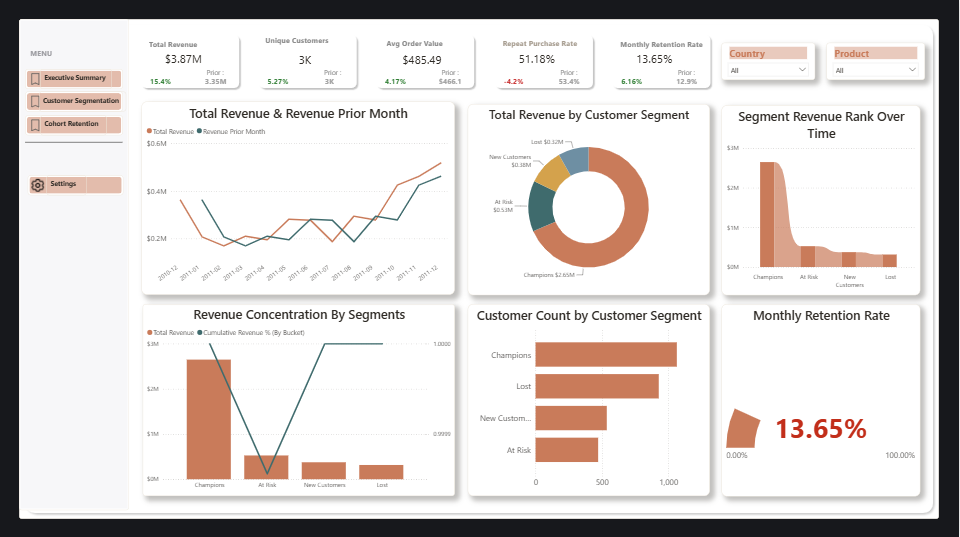

The dashboard page shown, as its layout file describes it:
{"tool":"powerbi","page":{"name":"Executive Summary","canvas":[1920,1080],"ordinal":0},"visuals":[{"type":"shape","title":"bg_card","box":[40,40,1840,1000],"z":0},{"type":"shape","box":[278,66,210,120],"z":0,"group":"g1"},{"type":"shape","box":[513.2,66,210,120],"z":0,"group":"g2"},{"type":"shape","box":[748.5,66,210,120],"z":0,"group":"g3"},{"type":"shape","box":[983.8,66,210,120],"z":0,"group":"g4"},{"type":"shape","box":[1219,66,210,120],"z":0,"group":"g5"},{"type":"shape","box":[40,40,220,982.5],"z":1000},{"type":"textbox","box":[528.6,67.4,160,48.6],"z":1000,"group":"g2"},{"type":"textbox","box":[769.9,73.3,157.3,42.7],"z":1000,"group":"g3"},{"type":"textbox","box":[1002.2,73.3,165.5,42.7],"z":1000,"group":"g4"},{"type":"textbox","box":[295.1,76,115.7,40],"z":1000,"group":"g1"},{"type":"textbox","box":[1236,76,193,40],"z":1000,"group":"g5"},{"type":"cardVisual","fields":{"Data":["ecommerce_cleaned.Total Revenue"]},"box":[315.4,88.5,109,54],"z":2000,"group":"g1"},{"type":"cardVisual","fields":{"Data":["ecommerce_cleaned.Repeat Purchase Rate"]},"box":[1021.2,88.5,109,54],"z":2000,"group":"g4"},{"type":"cardVisual","fields":{"Data":["ecommerce_cleaned.Monthly Retention Rate"]},"box":[1256.4,88.5,109,54],"z":2000,"group":"g5"},{"type":"cardVisual","fields":{"Data":["ecommerce_cleaned.Unique Customers"]},"box":[582.8,90.3,64.3,55.7],"z":2000,"group":"g2"},{"type":"cardVisual","fields":{"Data":["ecommerce_cleaned.Avg Order Value"]},"box":[791.7,94.2,120.9,48.2],"z":2000,"group":"g3"},{"type":"actionButton","title":"overview button","box":[52.5,140,195,40],"z":2000},{"type":"textbox","box":[57.8,92.2,58.9,33.3],"z":3000},{"type":"cardVisual","fields":{"Data":["ecommerce_cleaned.Total Revenue MoM %"]},"box":[286.3,143,78.4,34.2],"z":3000,"group":"g1"},{"type":"cardVisual","fields":{"Data":["ecommerce_cleaned.Unique Customers MoM %"]},"box":[521.5,143,78.4,34.2],"z":3000,"group":"g2"},{"type":"cardVisual","fields":{"Data":["ecommerce_cleaned.Avg Order Value MoM %"]},"box":[756.8,143,78.4,34.2],"z":3000,"group":"g3"},{"type":"cardVisual","fields":{"Data":["ecommerce_cleaned.Repeat Purchase Rate MoM %"]},"box":[992,143,78,34],"z":3000,"group":"g4"},{"type":"cardVisual","fields":{"Data":["ecommerce_cleaned.Monthly Retention Rate MoM %"]},"box":[1227.3,143,78.4,34.2],"z":3000,"group":"g5"},{"type":"cardVisual","fields":{"Data":["ecommerce_cleaned.Total Revenue PM"]},"box":[396.3,143,78.4,34.2],"z":4000,"group":"g1"},{"type":"cardVisual","fields":{"Data":["ecommerce_cleaned.Repeat Purchase Rate PM"]},"box":[1102.1,143,78.4,34.2],"z":4000,"group":"g4"},{"type":"cardVisual","fields":{"Data":["ecommerce_cleaned.Monthly Retention Rate PM"]},"box":[1337.3,143,78.4,34.2],"z":4000,"group":"g5"},{"type":"cardVisual","fields":{"Data":["ecommerce_cleaned.Unique Customers PM"]},"box":[634.8,146,59.1,31.8],"z":4000,"group":"g2"},{"type":"cardVisual","fields":{"Data":["ecommerce_cleaned.Avg Order Value PM"]},"box":[864.4,146,84.5,30.9],"z":4000,"group":"g3"},{"type":"actionButton","box":[52.5,185.8,195,40],"z":4000},{"type":"textbox","box":[410.9,132.5,55.6,27.8],"z":5000,"group":"g1"},{"type":"textbox","box":[646.1,132.5,55.6,27.8],"z":5000,"group":"g2"},{"type":"textbox","box":[881.4,132.5,55.6,27.8],"z":5000,"group":"g3"},{"type":"textbox","box":[1116.7,132.5,55.6,27.8],"z":5000,"group":"g4"},{"type":"textbox","box":[1351.9,132.5,55.6,27.8],"z":5000,"group":"g5"},{"type":"textbox","box":[80,185.8,174,40],"z":5000},{"type":"actionButton","box":[52.5,231.7,195,40],"z":6000},{"type":"actionButton","box":[57.3,353.6,190.9,40],"z":7000},{"type":"textbox","box":[94.4,353.3,80,40],"z":8000},{"type":"textbox","box":[82.5,231.7,132.5,40],"z":9000},{"type":"textbox","box":[82.5,140,143.3,40],"z":10000},{"type":"shape","box":[53.6,271.8,194.5,28.2],"z":11000},{"type":"group","id":"g1","title":"KPI 1","box":[278,66,210,120],"z":12000},{"type":"group","id":"g2","title":"KPI 2","box":[513.2,66,210,120],"z":13000},{"type":"group","id":"g3","title":"KPI 3","box":[748.5,66,210,120],"z":14000},{"type":"group","id":"g4","title":"KPI 4","box":[983.8,66,210,120],"z":15000},{"type":"group","id":"g5","title":"KPI 4","box":[1219,66,210,120],"z":16000},{"type":"lineClusteredColumnComboChart","title":"Revenue Concentration By Segments","fields":{"Category":["ecommerce_cleaned.Customer Segment (Column)"],"Y":["ecommerce_cleaned.Total Revenue"],"Y2":["ecommerce_cleaned.Cumulative Revenue % (By Bucket)"]},"box":[288,610,624,384],"z":17000},{"type":"donutChart","title":"Total Revenue by Customer Segment ","fields":{"Y":["ecommerce_cleaned.Total Revenue"],"Category":["ecommerce_cleaned.Customer Segment (Column)"]},"box":[938,210,484,382],"z":18000},{"type":"lineChart","title":"Total Revenue & Revenue Prior Month","fields":{"Y":["ecommerce_cleaned.Total Revenue","ecommerce_cleaned.Revenue Prior Month"],"Category":["Calendar.Year-Month"]},"box":[286,206,626,386],"z":19000},{"type":"barChart","title":"Customer Count by Customer Segment","fields":{"Y":["Count(ecommerce_cleaned.CustomerID)"],"Category":["ecommerce_cleaned.Customer Segment (Column)"]},"box":[938,610,484,384],"z":20000},{"type":"slicer","fields":{"Values":["ecommerce_cleaned.Country"]},"box":[1444.3,88.6,187.1,74.3],"z":21000},{"type":"slicer","fields":{"Values":["ecommerce_cleaned.Description"]},"box":[1655.7,88.6,197.1,74.3],"z":22000},{"type":"gauge","fields":{"Y":["ecommerce_cleaned.Monthly Retention Rate"]},"box":[1444,610,397.5,385],"z":23000},{"type":"ribbonChart","title":"Segment Revenue Rank Over Time","fields":{"Category":["ecommerce_cleaned.Customer Segment (Column)"],"Y":["ecommerce_cleaned.Total Revenue","CountNonNull(Calendar.Month Name)"]},"box":[1444,212,397.5,380],"z":24000}]}

Visuals, with their boxes on the page's 1920x1080 design canvas (x1, y1, x2, y2). These are canvas units, not pixel positions in the 960x537 screenshot, which may show the page scaled, cropped or inside an application window:
"bg_card" shape: select_region(40, 40, 1880, 1040)
shape: select_region(278, 66, 488, 186)
shape: select_region(513, 66, 723, 186)
shape: select_region(748, 66, 958, 186)
shape: select_region(984, 66, 1194, 186)
shape: select_region(1219, 66, 1429, 186)
shape: select_region(40, 40, 260, 1022)
textbox: select_region(529, 67, 689, 116)
textbox: select_region(770, 73, 927, 116)
textbox: select_region(1002, 73, 1168, 116)
textbox: select_region(295, 76, 411, 116)
textbox: select_region(1236, 76, 1429, 116)
cardVisual - ecommerce_cleaned.Total Revenue: select_region(315, 88, 424, 142)
cardVisual - ecommerce_cleaned.Repeat Purchase Rate: select_region(1021, 88, 1130, 142)
cardVisual - ecommerce_cleaned.Monthly Retention Rate: select_region(1256, 88, 1365, 142)
cardVisual - ecommerce_cleaned.Unique Customers: select_region(583, 90, 647, 146)
cardVisual - ecommerce_cleaned.Avg Order Value: select_region(792, 94, 913, 142)
"overview button" actionButton: select_region(52, 140, 248, 180)
textbox: select_region(58, 92, 117, 126)
cardVisual - ecommerce_cleaned.Total Revenue MoM %: select_region(286, 143, 365, 177)
cardVisual - ecommerce_cleaned.Unique Customers MoM %: select_region(522, 143, 600, 177)
cardVisual - ecommerce_cleaned.Avg Order Value MoM %: select_region(757, 143, 835, 177)
cardVisual - ecommerce_cleaned.Repeat Purchase Rate MoM %: select_region(992, 143, 1070, 177)
cardVisual - ecommerce_cleaned.Monthly Retention Rate MoM %: select_region(1227, 143, 1306, 177)
cardVisual - ecommerce_cleaned.Total Revenue PM: select_region(396, 143, 475, 177)
cardVisual - ecommerce_cleaned.Repeat Purchase Rate PM: select_region(1102, 143, 1180, 177)
cardVisual - ecommerce_cleaned.Monthly Retention Rate PM: select_region(1337, 143, 1416, 177)
cardVisual - ecommerce_cleaned.Unique Customers PM: select_region(635, 146, 694, 178)
cardVisual - ecommerce_cleaned.Avg Order Value PM: select_region(864, 146, 949, 177)
actionButton: select_region(52, 186, 248, 226)
textbox: select_region(411, 132, 466, 160)
textbox: select_region(646, 132, 702, 160)
textbox: select_region(881, 132, 937, 160)
textbox: select_region(1117, 132, 1172, 160)
textbox: select_region(1352, 132, 1408, 160)
textbox: select_region(80, 186, 254, 226)
actionButton: select_region(52, 232, 248, 272)
actionButton: select_region(57, 354, 248, 394)
textbox: select_region(94, 353, 174, 393)
textbox: select_region(82, 232, 215, 272)
textbox: select_region(82, 140, 226, 180)
shape: select_region(54, 272, 248, 300)
"KPI 1" group: select_region(278, 66, 488, 186)
"KPI 2" group: select_region(513, 66, 723, 186)
"KPI 3" group: select_region(748, 66, 958, 186)
"KPI 4" group: select_region(984, 66, 1194, 186)
"KPI 4" group: select_region(1219, 66, 1429, 186)
"Revenue Concentration By Segments" lineClusteredColumnComboChart: select_region(288, 610, 912, 994)
"Total Revenue by Customer Segment " donutChart: select_region(938, 210, 1422, 592)
"Total Revenue & Revenue Prior Month" lineChart: select_region(286, 206, 912, 592)
"Customer Count by Customer Segment" barChart: select_region(938, 610, 1422, 994)
slicer - ecommerce_cleaned.Country: select_region(1444, 89, 1631, 163)
slicer - ecommerce_cleaned.Description: select_region(1656, 89, 1853, 163)
gauge - ecommerce_cleaned.Monthly Retention Rate: select_region(1444, 610, 1842, 995)
"Segment Revenue Rank Over Time" ribbonChart: select_region(1444, 212, 1842, 592)
